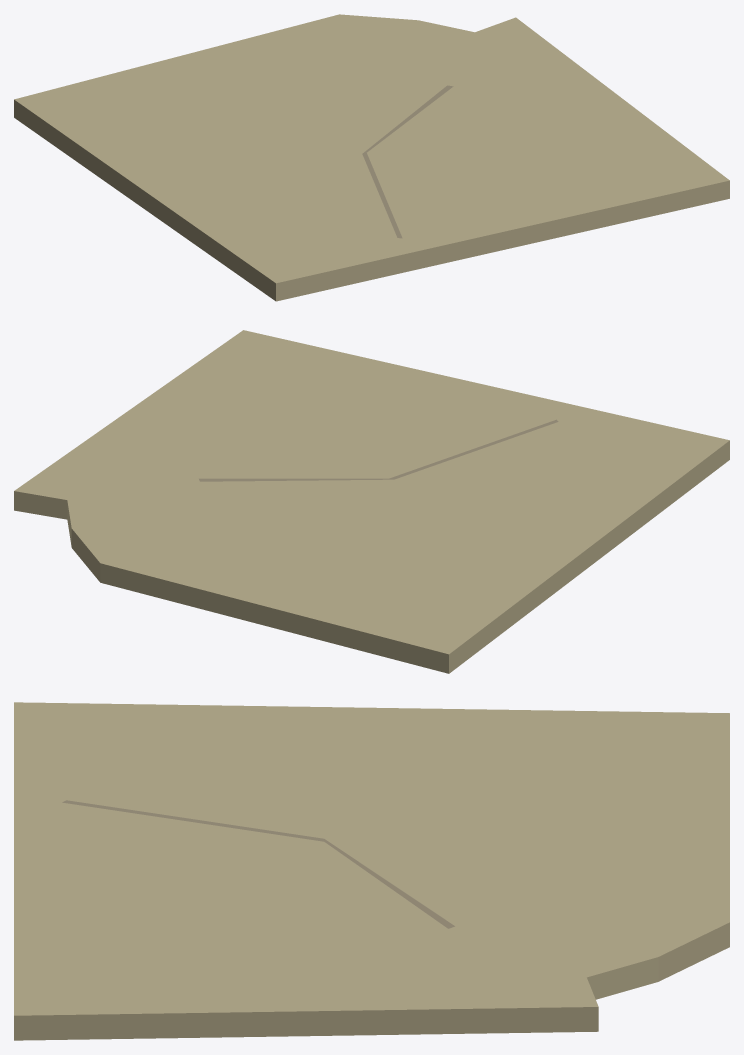
The model's file is ceiling_tile_fallen.glb.
3 views of the same model, one above another, from view 1: azimuth 30°, elevation 25°; view 2: azimuth 150°, elevation 25°; view 3: azimuth 270°, elevation 25° (orthographic). The views are drawn at different scales.
Parts seen in each view (by area): view 1: Loseta rota, Grieta; view 2: Loseta rota, Grieta; view 3: Loseta rota, Grieta.
Part boxes in pixels (x1,y1,x2,y2): Loseta rota: [14, 14, 729, 301]; Grieta: [362, 85, 453, 238]; Loseta rota: [14, 330, 729, 673]; Grieta: [199, 419, 558, 481]; Loseta rota: [14, 702, 729, 1040]; Grieta: [62, 800, 454, 928].
Size of the model in its own units: 0.6 by 0.033 by 0.6.
